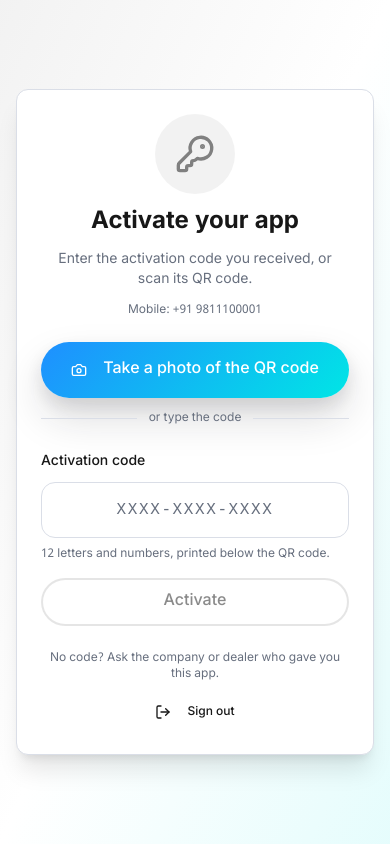
Scenario: Activate › explains a refusal (rate_limited) and stays on the screen
Expected: the button "Activate" is shown, [41,578,349,626]
Type "7K2M-9PQR-4T8X" into the field labelled "Activation code" at [195, 510], box [41,482,349,538]
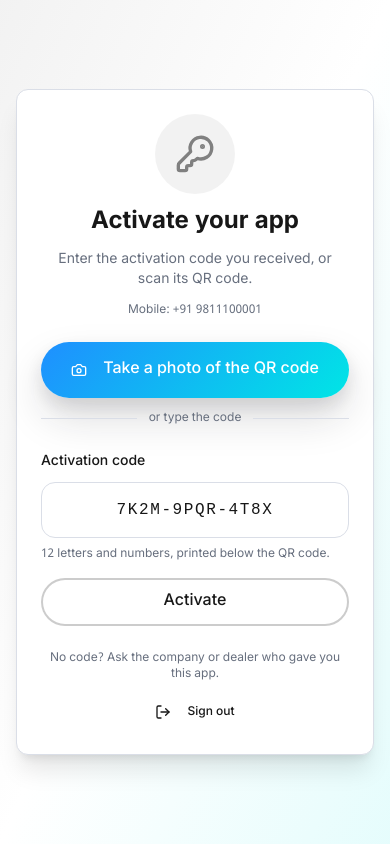
Expected: the button "Activate" is enabled
Click the button "Activate" at [195, 602], box [41,578,349,626]
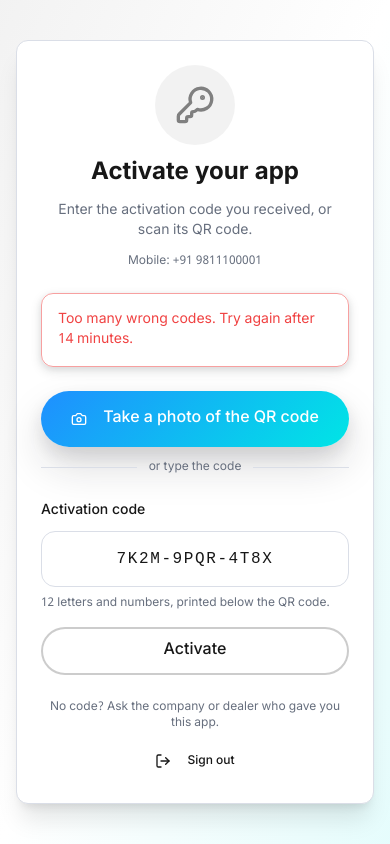
Expected: the message reads "Too many wrong codes. Try again after 14 minutes.", [58,310,315,349]
